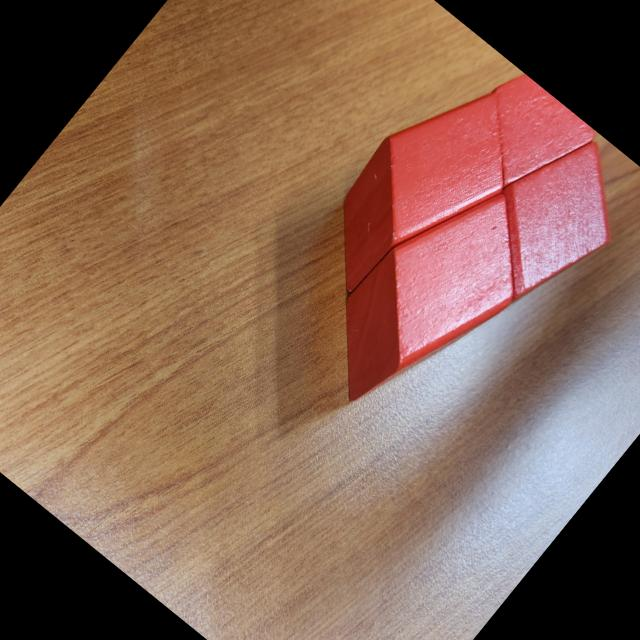red: (297, 159, 562, 443), (293, 57, 548, 330), (452, 116, 640, 326), (448, 64, 598, 214)
